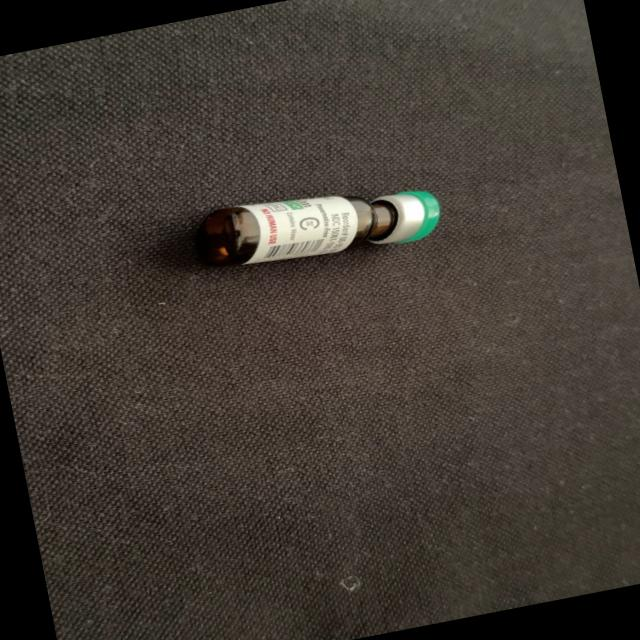midazolm: (198, 170, 440, 280)
